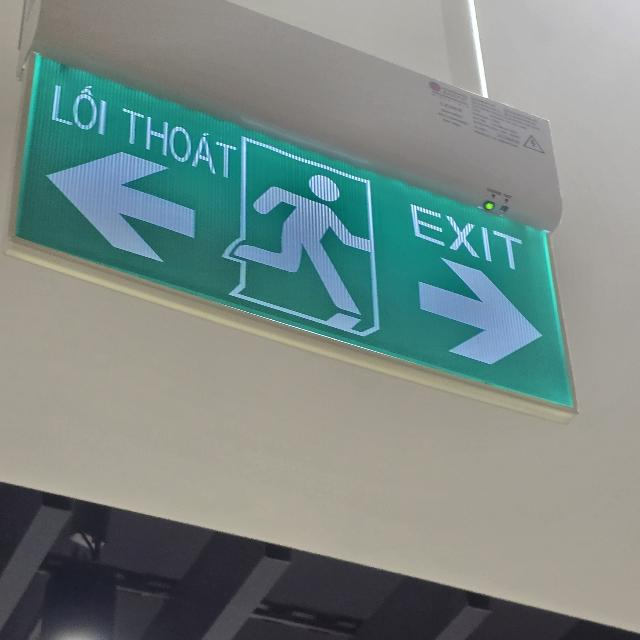exit: (15, 57, 574, 408)
